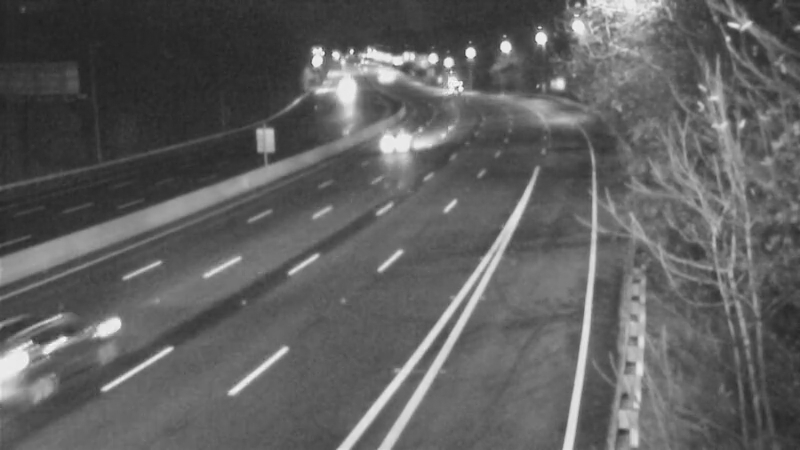vehicle: (1, 306, 108, 416), (428, 60, 478, 110), (369, 120, 419, 170), (319, 61, 369, 111)
